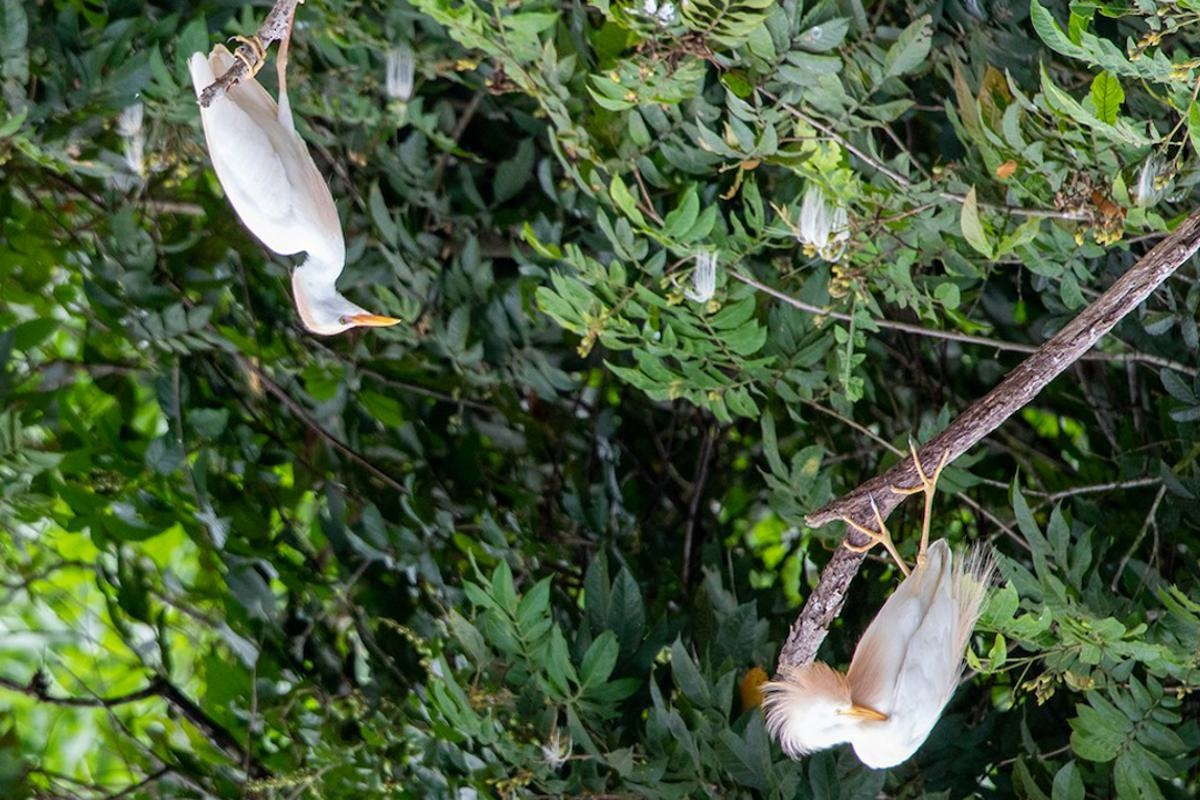egret: (166, 41, 416, 354), (755, 506, 1017, 787)
